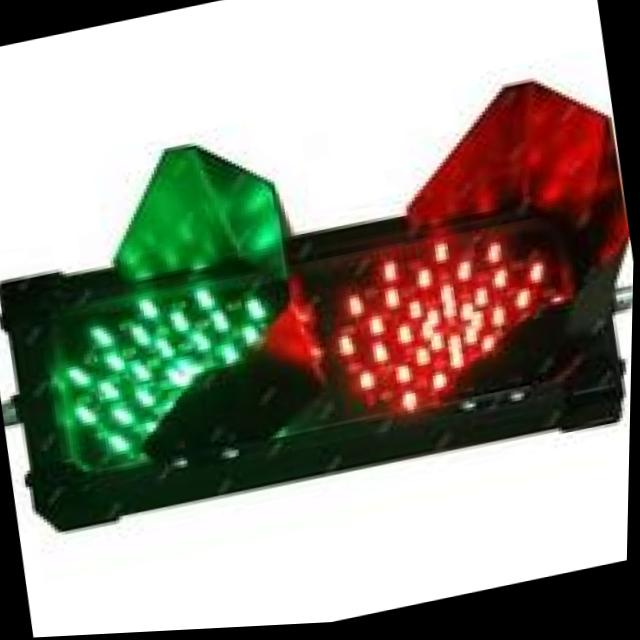green_light: (25, 154, 330, 523)
red_light: (300, 158, 596, 450)
